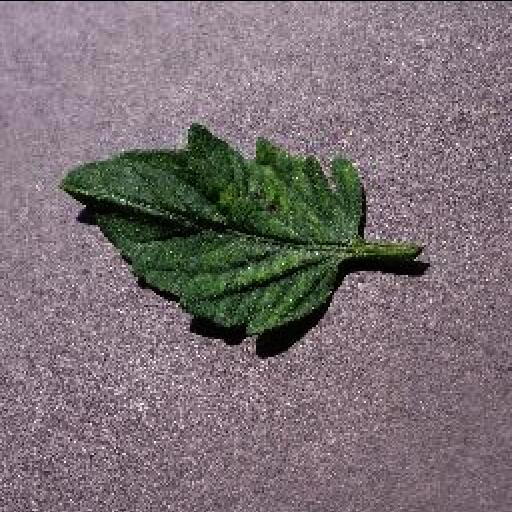Mosaic Virus: (60, 122, 368, 334)
